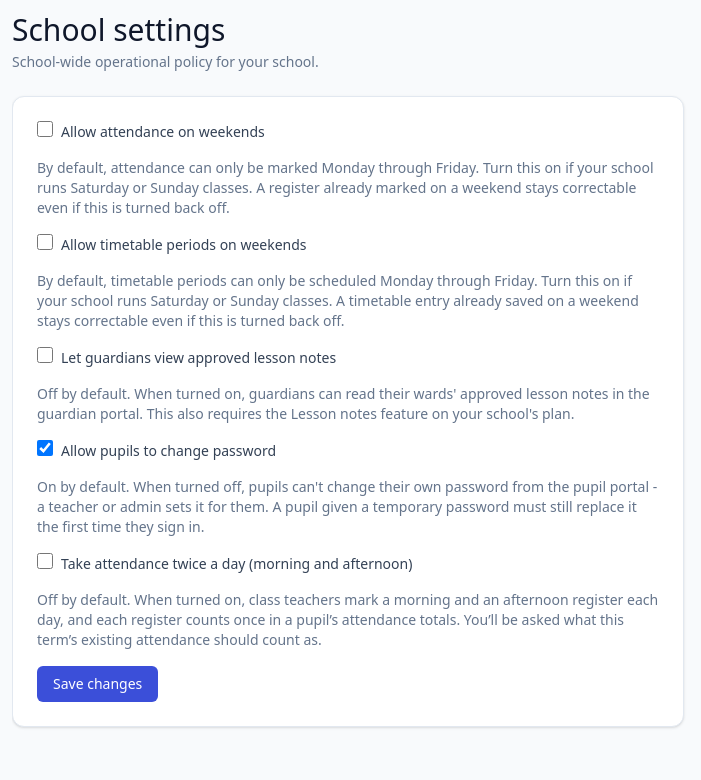
Test: SchoolSettingsPage › loads the current value, toggles it, saves, and shows a success alert
Click the checkbox labelled "Allow attendance on weekends" at (45, 129), box [37,121,53,137]
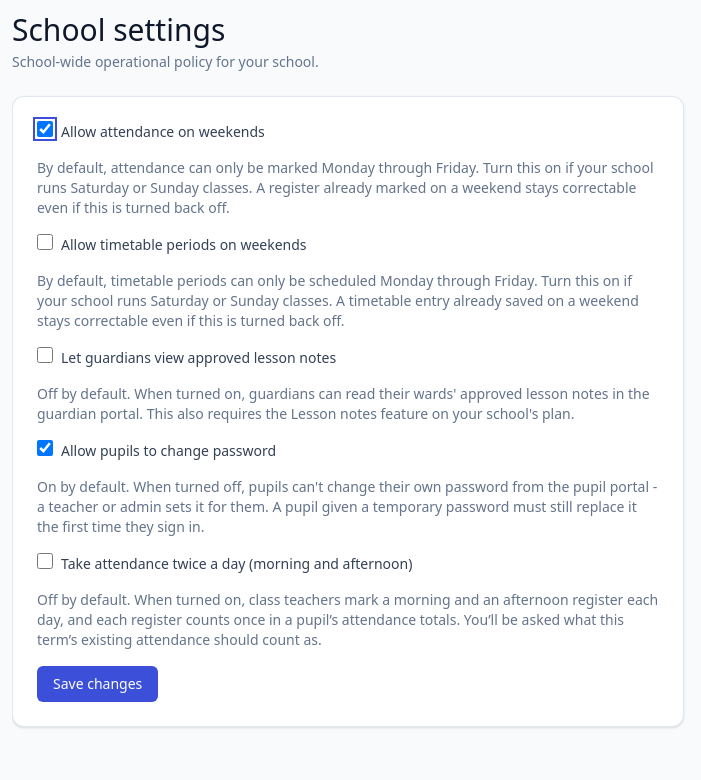
Check: the checkbox labelled "Allow attendance on weekends" is checked, box [37,121,53,137]
Click the button "Save changes" at (98, 684), box [37,666,158,702]
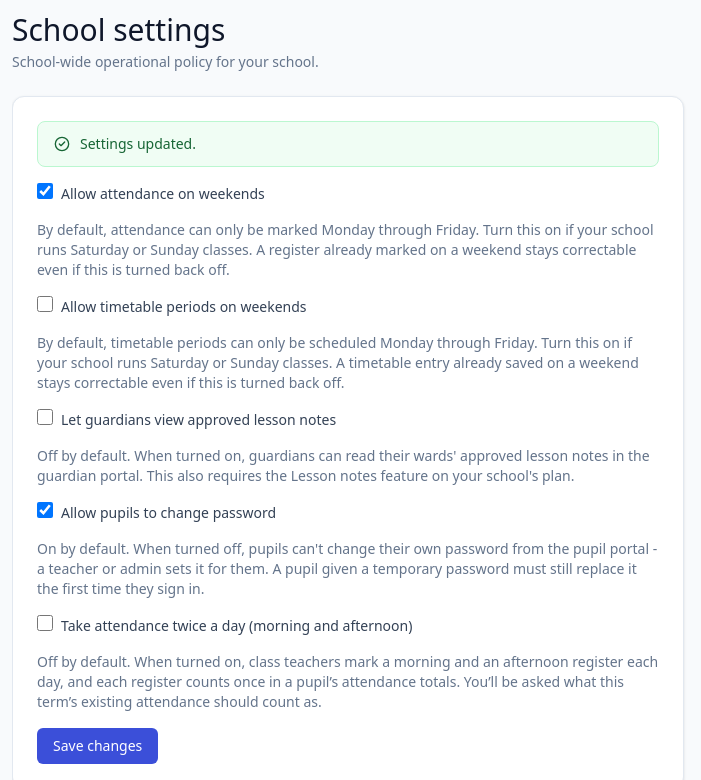
Check: the text "Settings updated." is shown, box [80,134,196,154]
